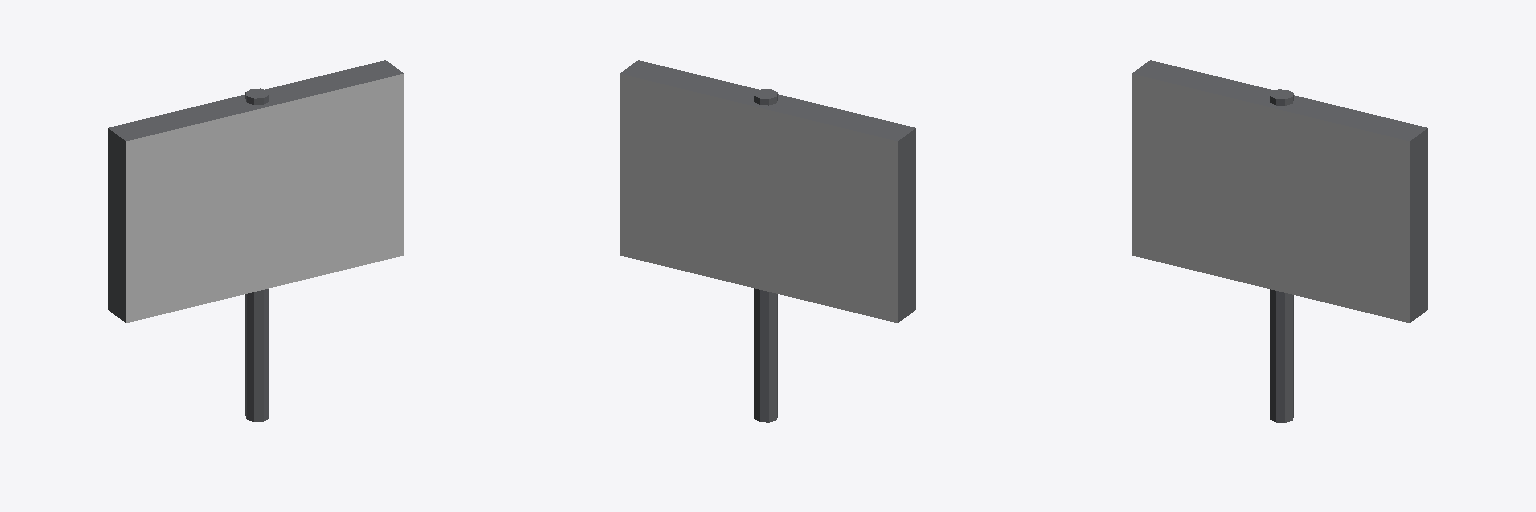
The model's file is model_signpost.obj.
3 renders of one model, left to right at view 1: azimuth 30°, elevation 25°; view 2: azimuth 150°, elevation 25°; view 3: azimuth 330°, elevation 25°, orthographic.
Parts seen in each view (by area): view 1: sign2; view 2: sign2; view 3: sign2.
Boxes of the visible parts, box(x1,y1,x2,y2) form: sign2: box(108, 60, 403, 421); sign2: box(620, 60, 915, 422); sign2: box(1132, 60, 1427, 422).
Bounding box in the file's own units: 2.85 × 3.17 × 0.3272.